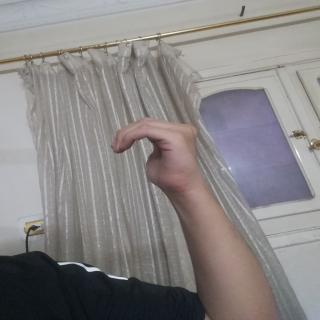HAA: (104, 118, 210, 186)
